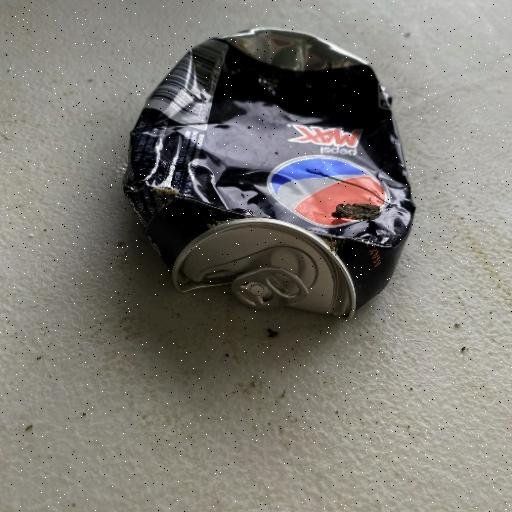Metal: (120, 26, 417, 322)
